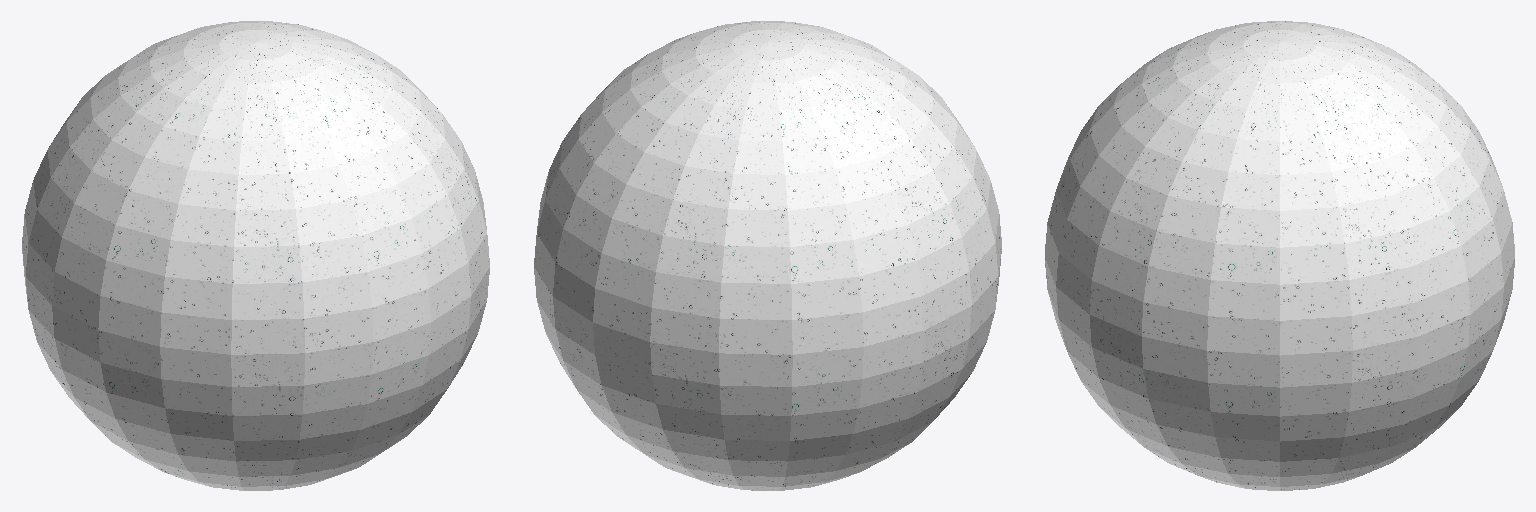
3 views of the same model, side by side, from view 1: azimuth 30°, elevation 25°; view 2: azimuth 150°, elevation 25°; view 3: azimuth 270°, elevation 25° (orthographic).
Parts seen in each view (by area): view 1: burbuja:pSphere1; view 2: burbuja:pSphere1; view 3: burbuja:pSphere1.
Boxes of the visible parts, x1,y1,x2,y2 form: burbuja:pSphere1: [22, 21, 489, 490]; burbuja:pSphere1: [534, 21, 1001, 490]; burbuja:pSphere1: [1045, 21, 1514, 490].
Bounding box in the file's own units: 0.8884 × 0.8884 × 0.8884.
1 materials, 1 textured.